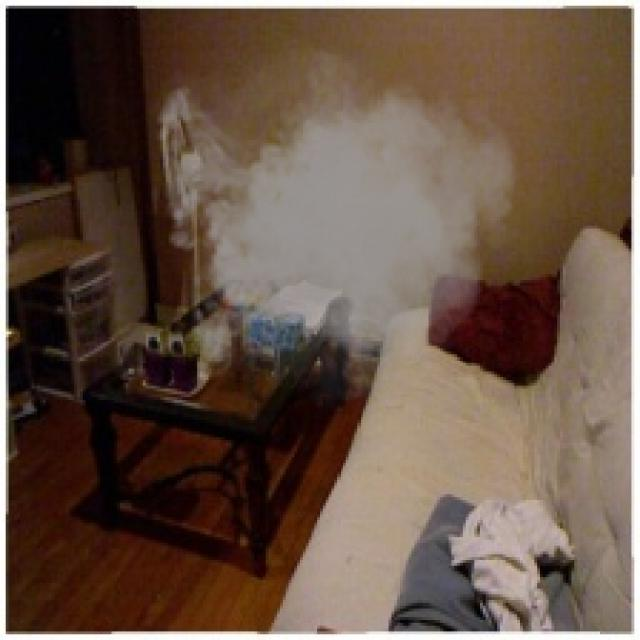smoke: (146, 29, 523, 420)
